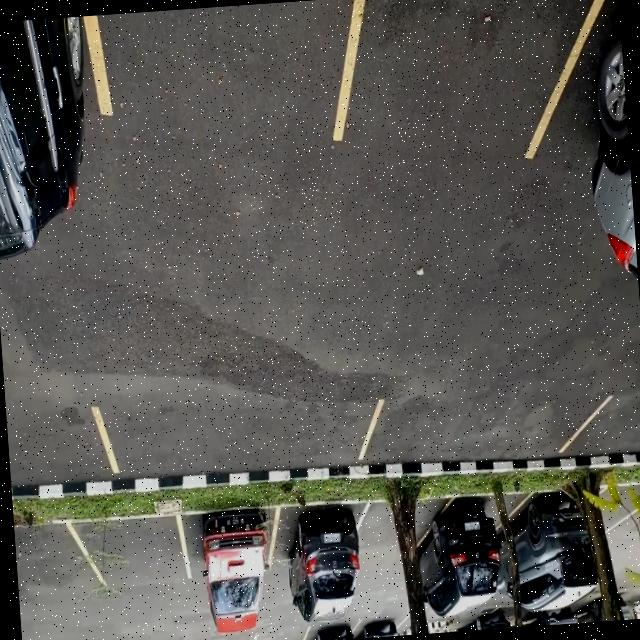empty: (334, 0, 599, 147), (89, 0, 357, 132), (96, 382, 374, 492), (361, 384, 583, 480), (84, 512, 189, 591)
occupied: (179, 502, 280, 612), (270, 498, 370, 604), (415, 492, 501, 613), (512, 488, 594, 598)
